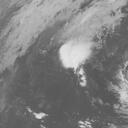cyclone: (58, 40, 92, 68)
